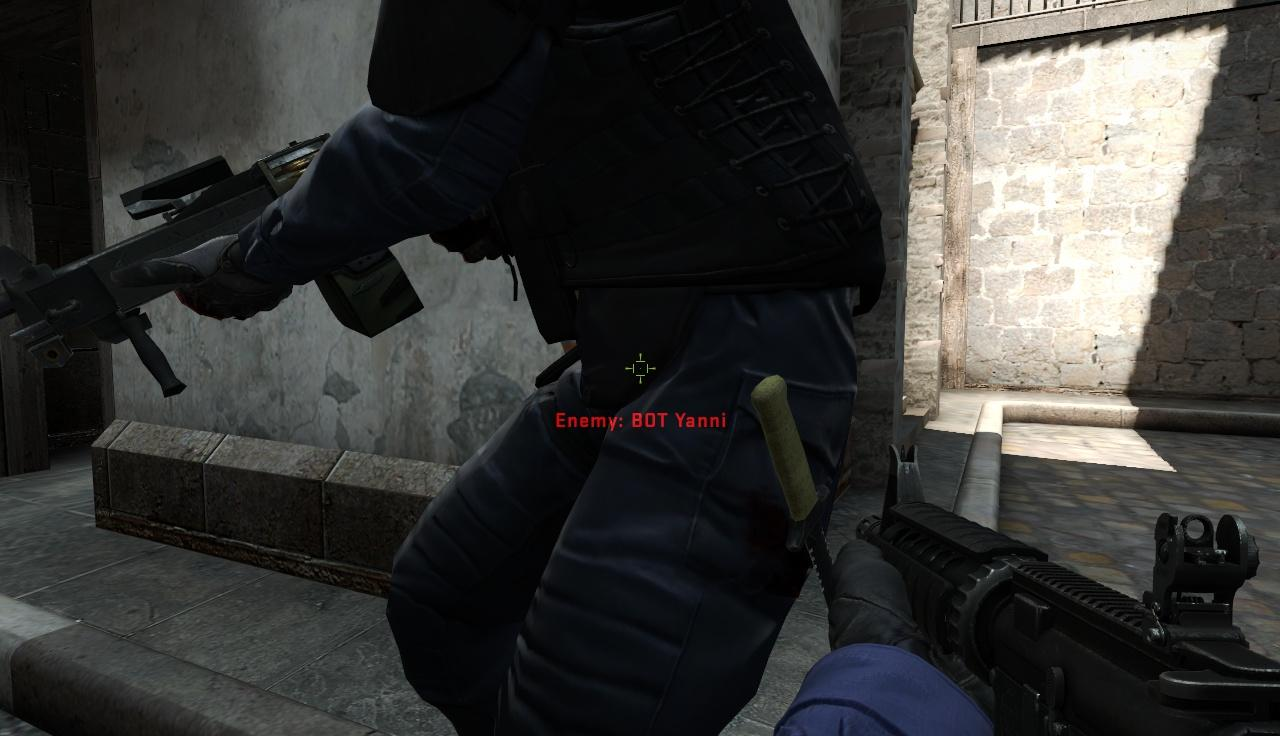ct: (371, 0, 862, 525)
rifle: (853, 441, 1280, 736)
